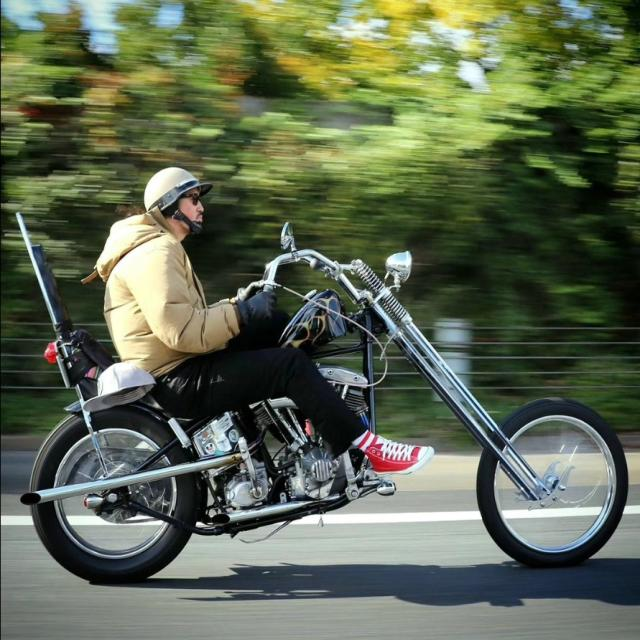helmet: (141, 164, 215, 242)
